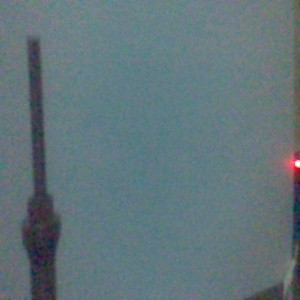obeng: (20, 36, 62, 300)
